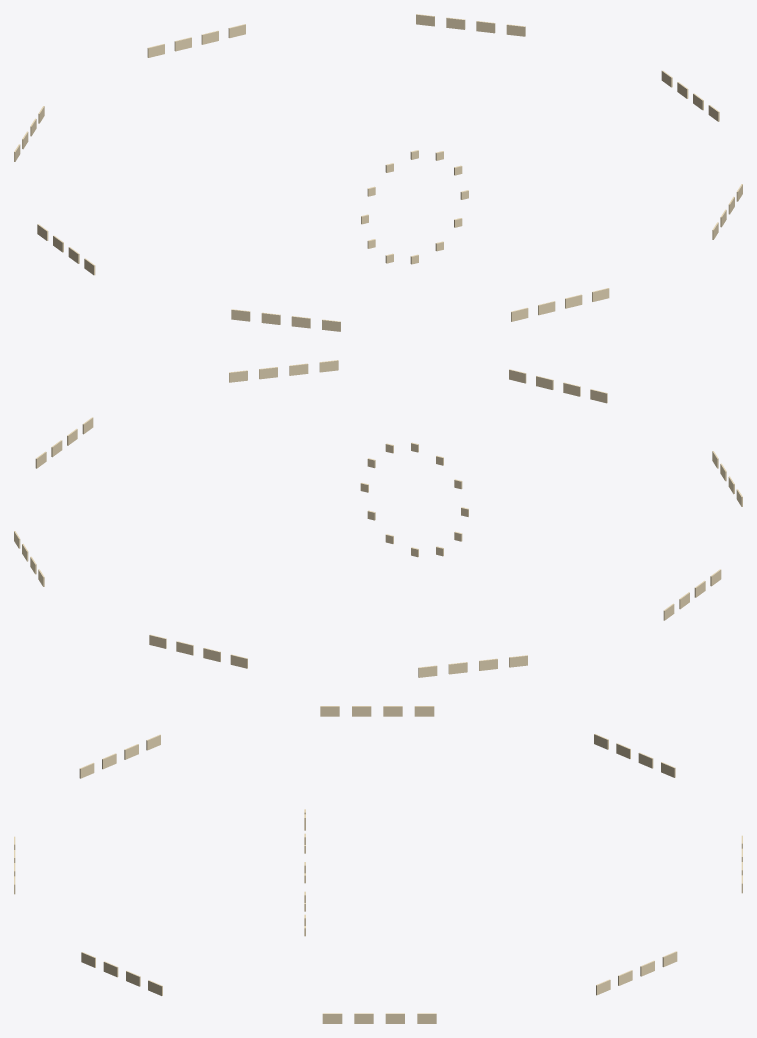
The model's file is station_windows.glb.
3 views of the same model, one above another, from view 1: azimuth 30°, elevation 25°; view 2: azimuth 150°, elevation 25°; view 3: azimuth 270°, elevation 25° (orthographic).
Visible parts, largest first — view 1: StationWindows; view 2: StationWindows; view 3: StationWindows.
Part boxes in pixels (x1=…): StationWindows: x1=14, y1=14, x2=742, y2=331; StationWindows: x1=14, y1=360, x2=742, y2=677; StationWindows: x1=14, y1=706, x2=742, y2=1023.
Bounding box in the file's own units: 30.12 × 5.15 × 30.12.
